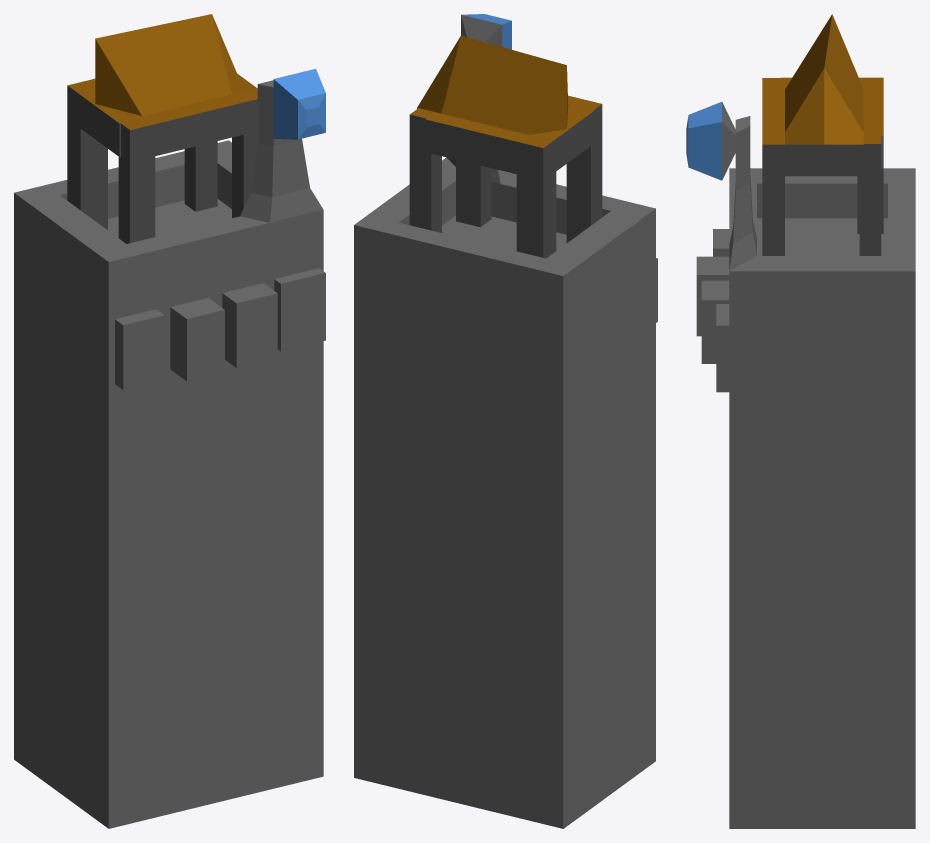
Rendered from struct2.fbx.
3 renders of one model, left to right at view 1: azimuth 30°, elevation 25°; view 2: azimuth 150°, elevation 25°; view 3: azimuth 270°, elevation 25°, orthographic. The views are drawn at different scales.
Parts seen in each view (by area): view 1: Plane; view 2: Plane; view 3: Plane.
Part boxes in pixels (<box>): Plane: <box>14,14,325,828</box>; Plane: <box>354,14,657,828</box>; Plane: <box>686,14,915,828</box>.
Size of the model in its own units: 199 by 657 by 187.
